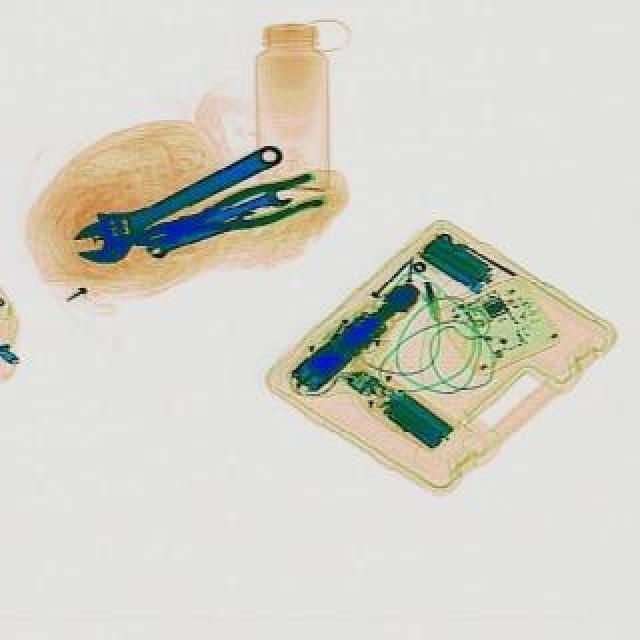scissors: (68, 126, 296, 278), (148, 208, 260, 264), (208, 186, 296, 230)
wrench: (132, 174, 330, 262)
